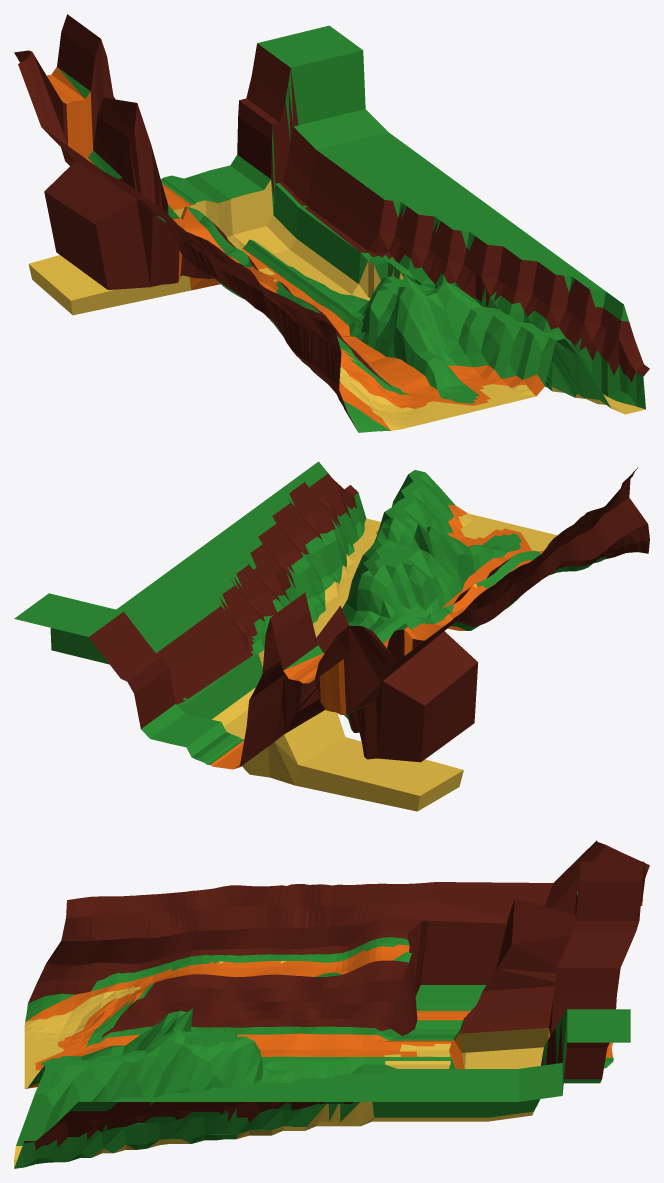
Rendered from Level 1 - Area 1v2.fbx.
3 views of the same model, one above another, from view 1: azimuth 30°, elevation 25°; view 2: azimuth 150°, elevation 25°; view 3: azimuth 270°, elevation 25° (orthographic). The views are drawn at different scales.
Visible parts, largest first — view 1: Level1 - Area 1 Triangulated; view 2: Level1 - Area 1 Triangulated; view 3: Level1 - Area 1 Triangulated.
Part boxes in pixels (bbox=[...]): Level1 - Area 1 Triangulated: bbox=[14, 14, 649, 432]; Level1 - Area 1 Triangulated: bbox=[14, 461, 649, 811]; Level1 - Area 1 Triangulated: bbox=[14, 840, 649, 1168].
Bounding box in the file's own units: 10489 × 6194 × 17759.
